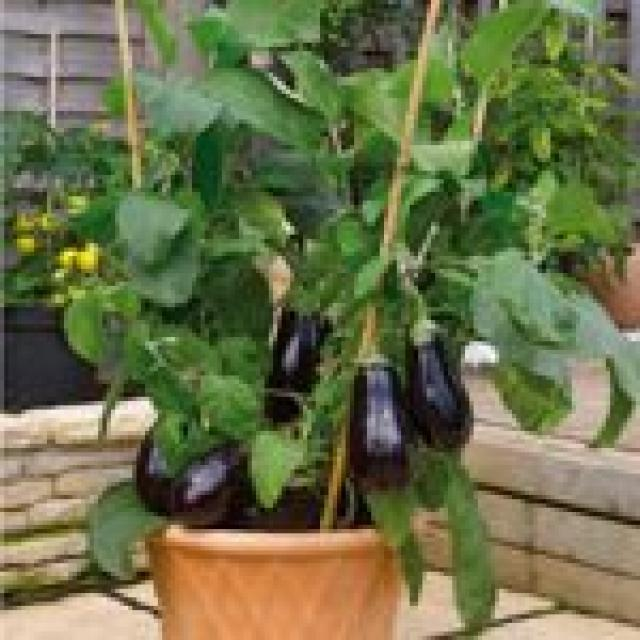brinjal: (0, 0, 640, 629)
